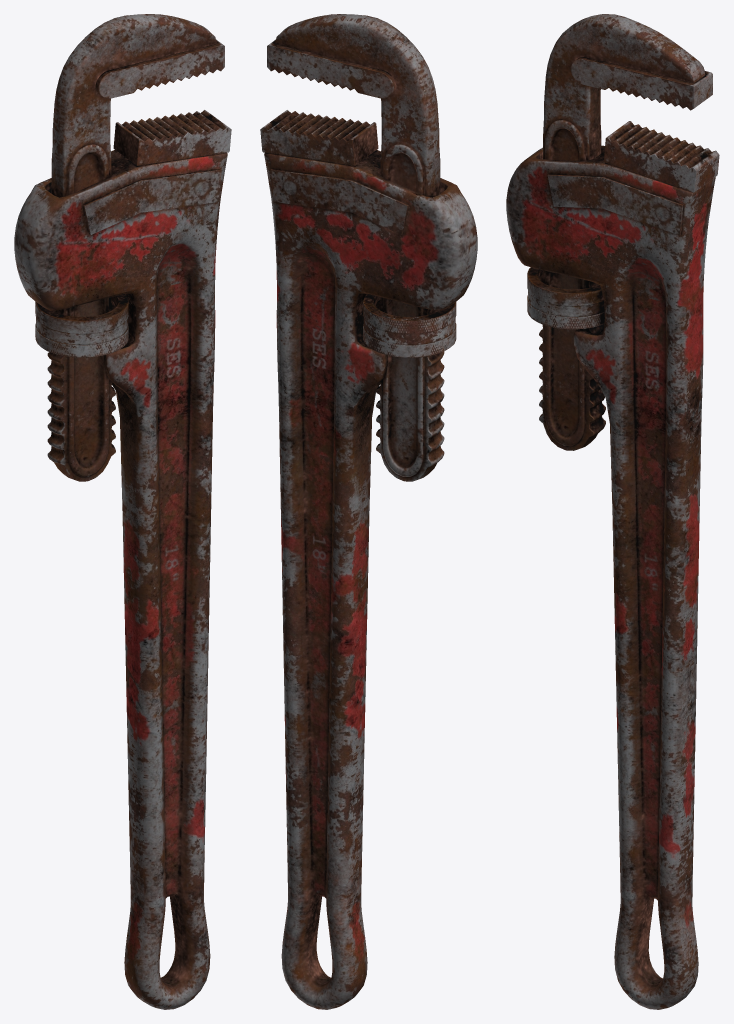
3 renders of one model, left to right at view 1: azimuth 30°, elevation 25°; view 2: azimuth 150°, elevation 25°; view 3: azimuth 330°, elevation 25°, orthographic.
Visible parts, largest first — view 1: pipe_wrench; view 2: pipe_wrench; view 3: pipe_wrench.
Part boxes in pixels (<box>): pipe_wrench: <box>14,14,231,1009</box>; pipe_wrench: <box>260,14,477,1009</box>; pipe_wrench: <box>506,14,719,1009</box>.
Bounding box in the file's own units: 0.084 × 0.4047 × 0.0343.
Materials: 1 (1 with a texture image).
